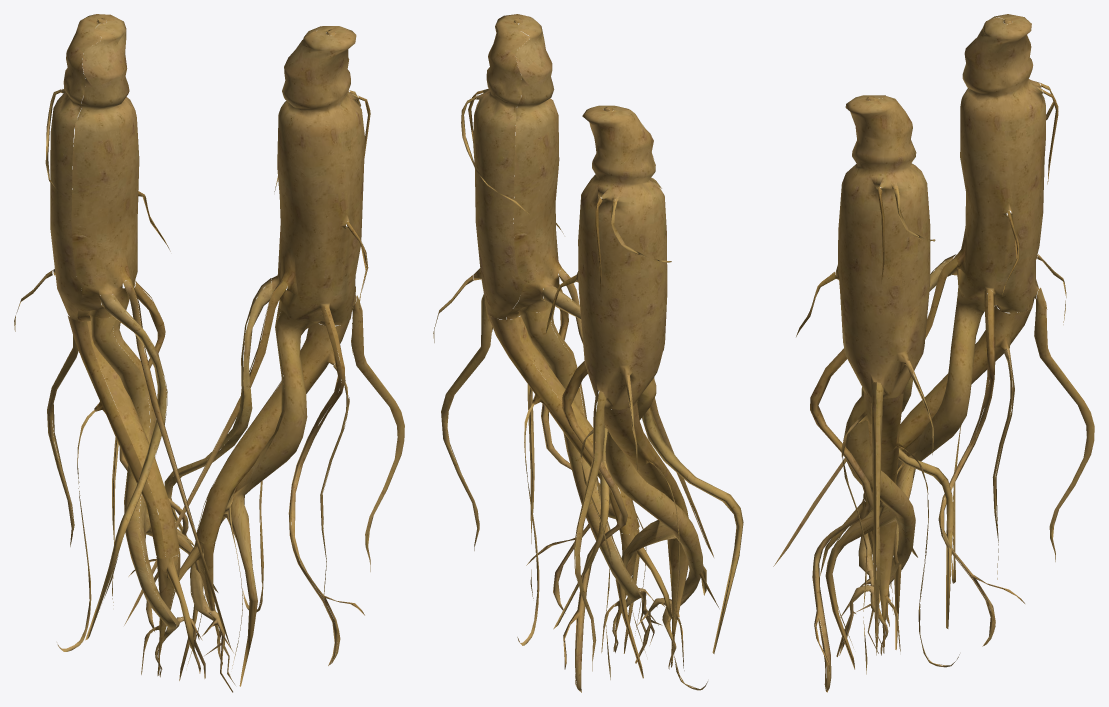
The model's file is ginseng.glb.
The picture shows the model from 3 angles, left to right: view 1: azimuth 30°, elevation 25°; view 2: azimuth 150°, elevation 25°; view 3: azimuth 270°, elevation 25°; orthographic projection.
Parts seen in each view (by area): view 1: Object_6; view 2: Object_6; view 3: Object_6.
Boxes of the visible parts, left/top/right/bottom form: Object_6: left=14, top=14, right=404, bottom=692; Object_6: left=433, top=14, right=743, bottom=692; Object_6: left=773, top=14, right=1094, bottom=692.
Size of the model in its own units: 7.81 by 14.98 by 7.06.
1 material, 1 textured.
